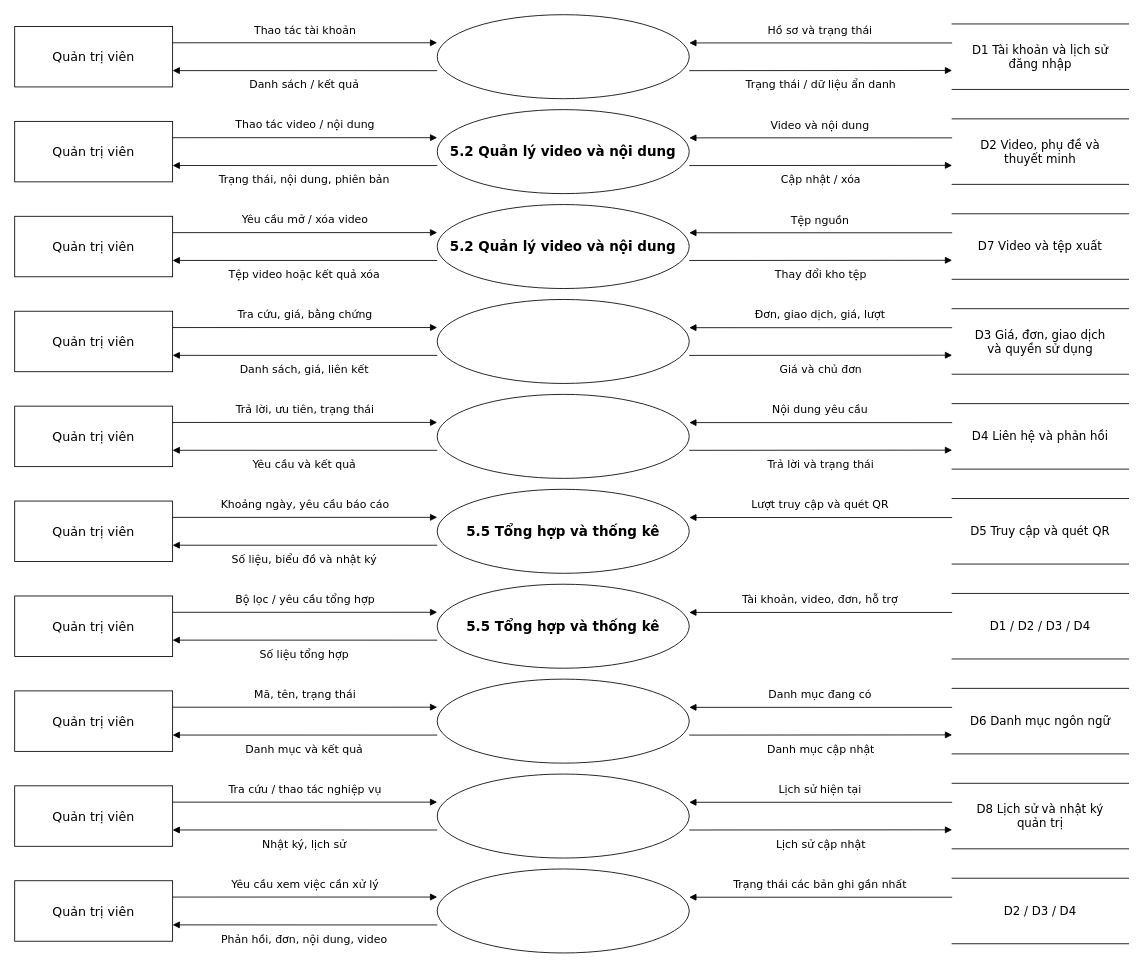
The diagram is 1143 pixels wide and 968 high, and some of its shapes have lost their labels. Here are the shapes that lost their labels. From the top down, the box of each, then its label:
(436, 14, 689, 99): 5.1 Quản lý tài khoản
(436, 299, 689, 383): 5.3 Đơn hàng, giá và đối soát
(436, 394, 689, 478): 5.4 Xử lý hỗ trợ
(436, 678, 689, 763): 5.6 Quản lý ngôn ngữ
(436, 773, 689, 858): 5.1–5.4 Lịch sử nghiệp vụ
(436, 868, 689, 953): 5.7 Tổng hợp việc cần xử lý
